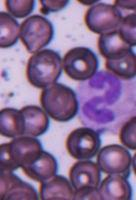N: (74, 70, 136, 134)
